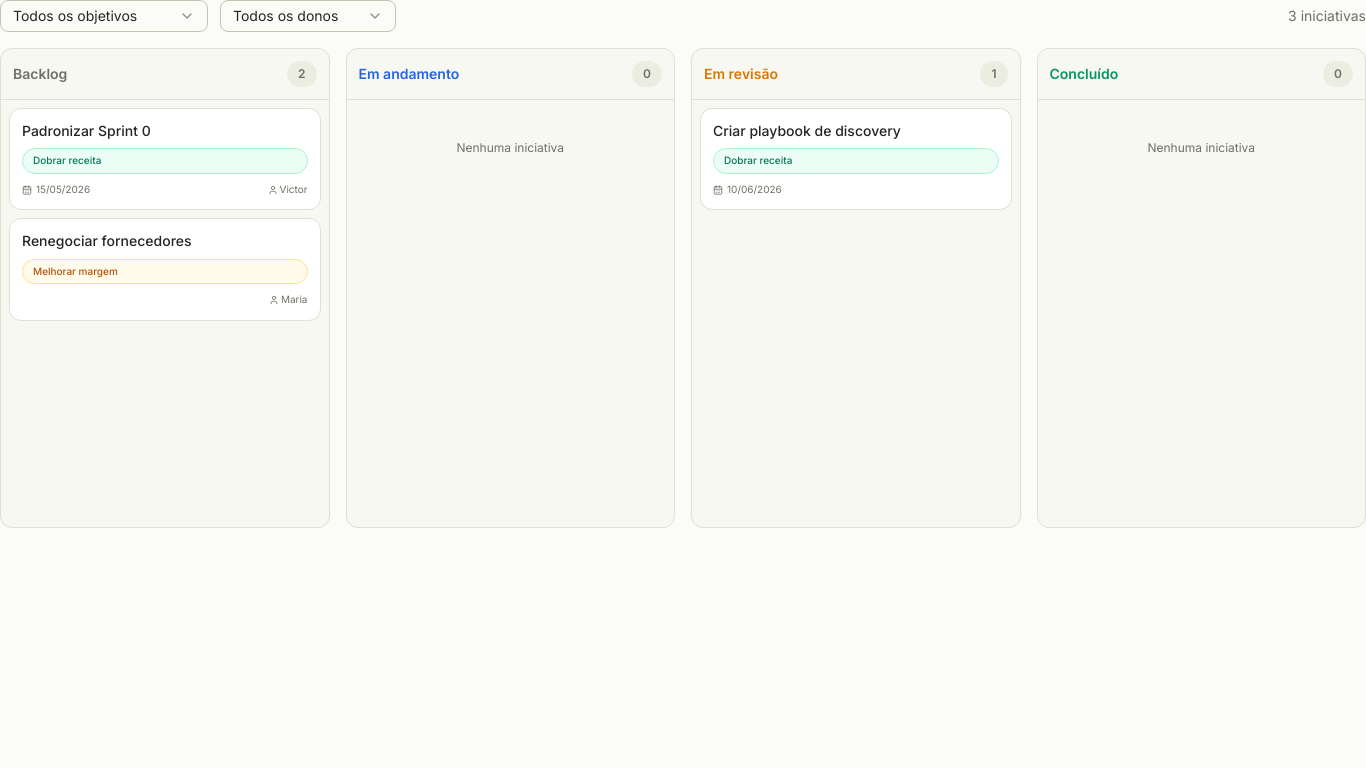
Test: InitiativesKanban › renders initiatives read-only when the user cannot manage them
Click the text "Padronizar Sprint 0": (86, 130) [22,122,151,139]
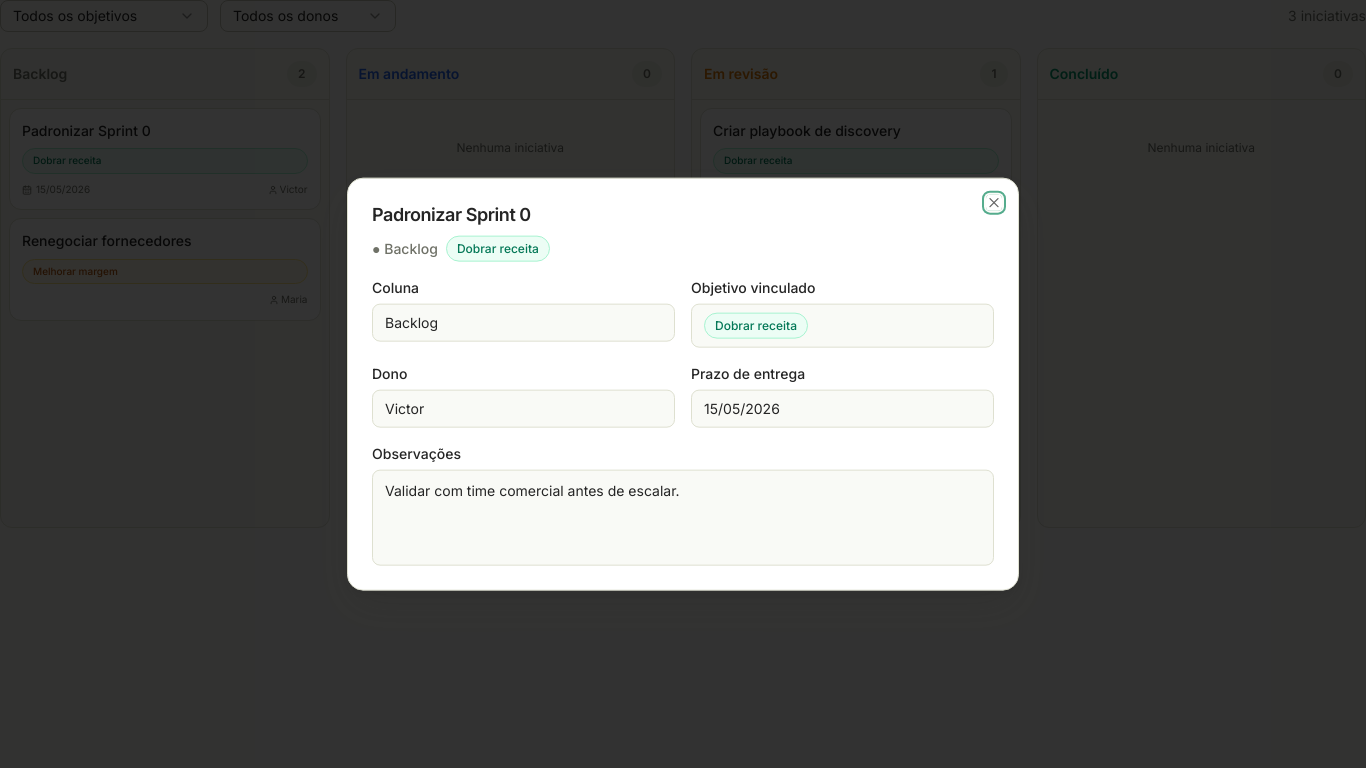
Check: the text "Observações" is shown, box [372,444,461,461]
